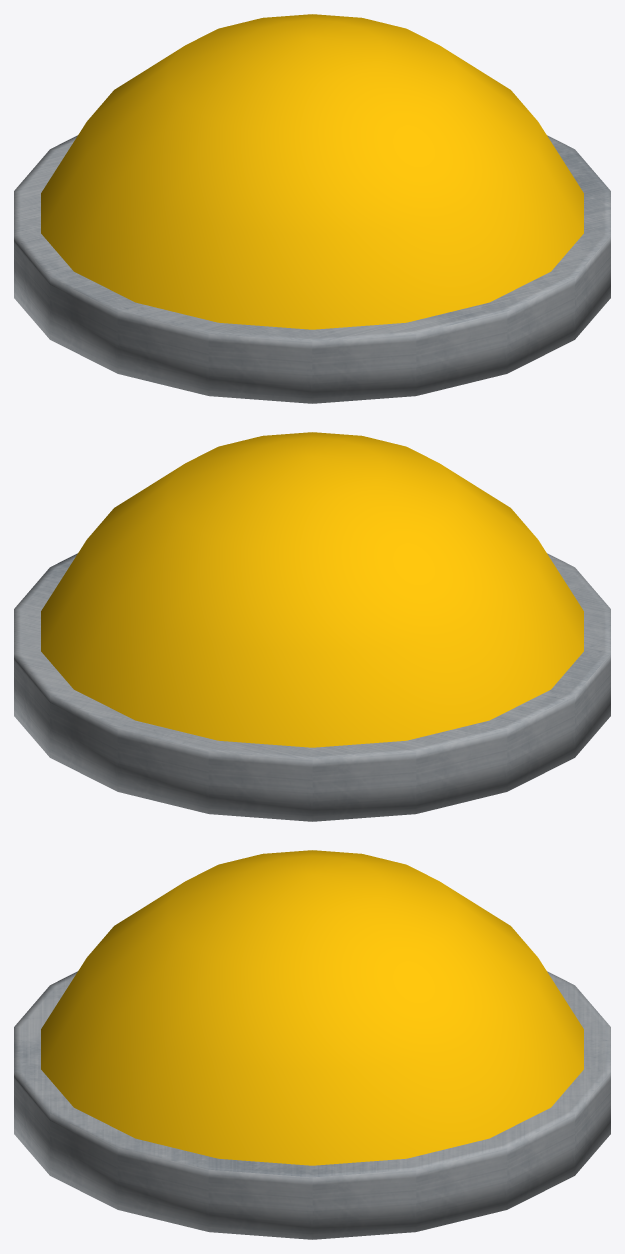
Rendered from SecurityCam-Type-0-HighPoly.obj.
3 renders of one model, top to bottom at view 1: azimuth 30°, elevation 25°; view 2: azimuth 150°, elevation 25°; view 3: azimuth 270°, elevation 25°, orthographic.
Parts seen in each view (by area): view 1: SecurityCam-Type-0-HighPoly; view 2: SecurityCam-Type-0-HighPoly; view 3: SecurityCam-Type-0-HighPoly.
Part boxes in pixels (<box>): SecurityCam-Type-0-HighPoly: <box>14,14,610,403</box>; SecurityCam-Type-0-HighPoly: <box>14,432,610,821</box>; SecurityCam-Type-0-HighPoly: <box>14,850,610,1239</box>.
Bounding box in the file's own units: 0.44 × 0.19 × 0.4333.
